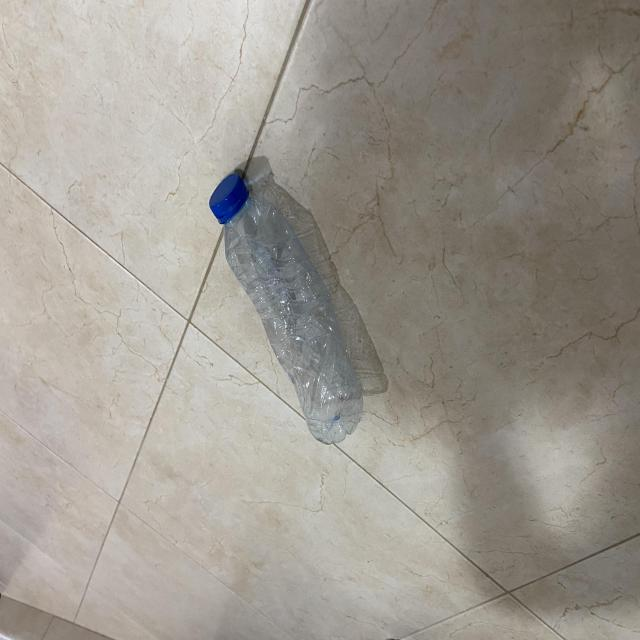plastic: (207, 164, 365, 449)
